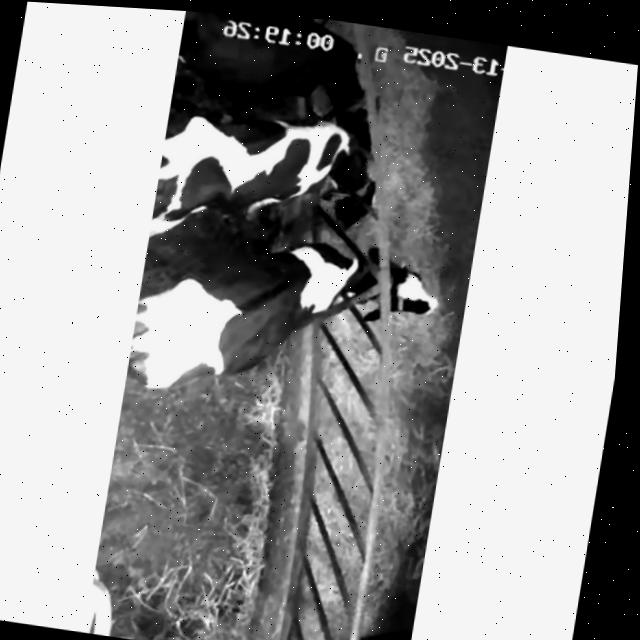eat: (243, 215, 476, 360), (198, 97, 444, 225), (248, 15, 455, 111)
